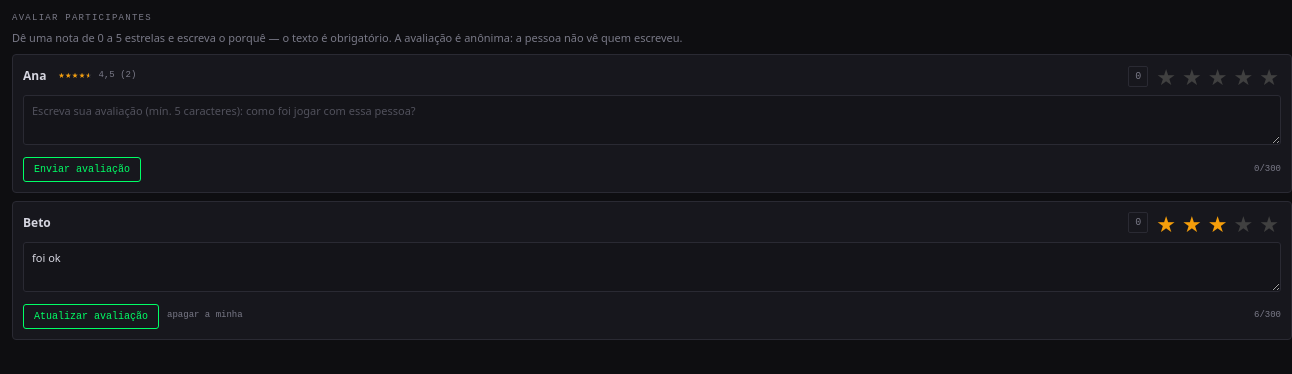
Test: AvaliarParticipantes — estrelas e texto obrigatório › sem escolher a nota não envia
Click the button "Enviar avaliação" at (82, 169), box [23, 157, 141, 182]
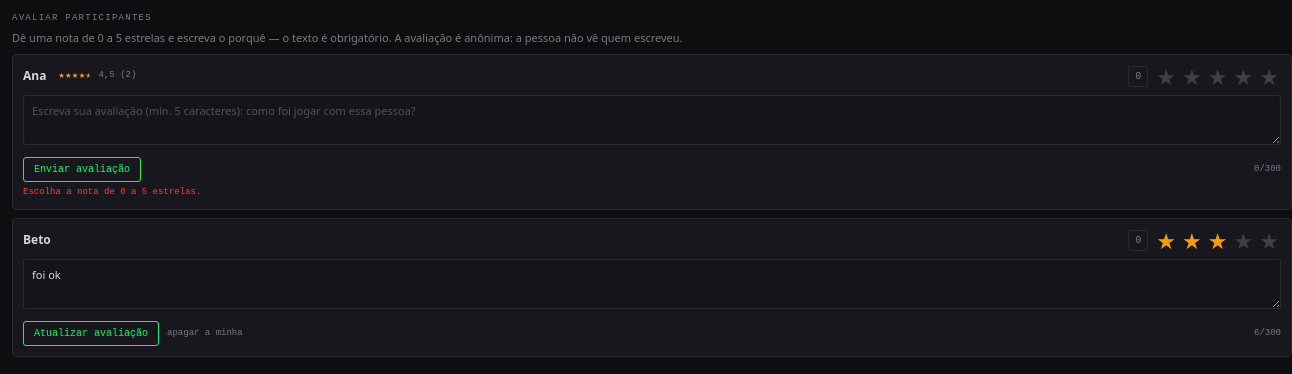
Expected: the message shows "Escolha a nota", [23, 187, 201, 197]
